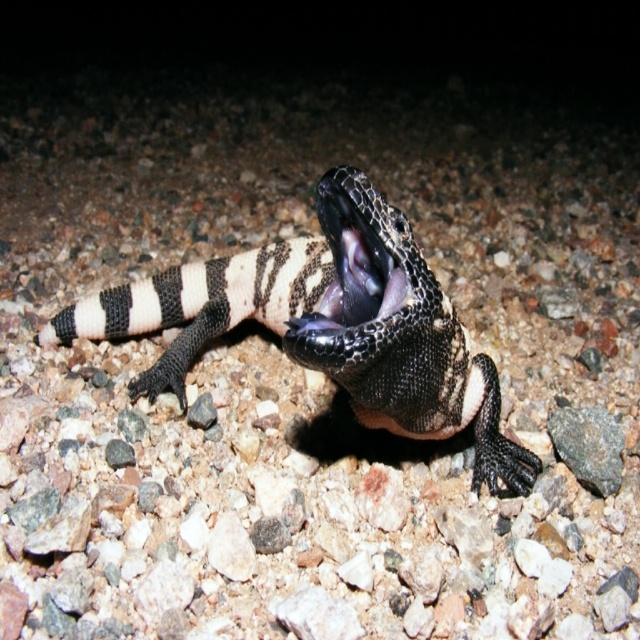Lizard: (26, 142, 548, 506)
